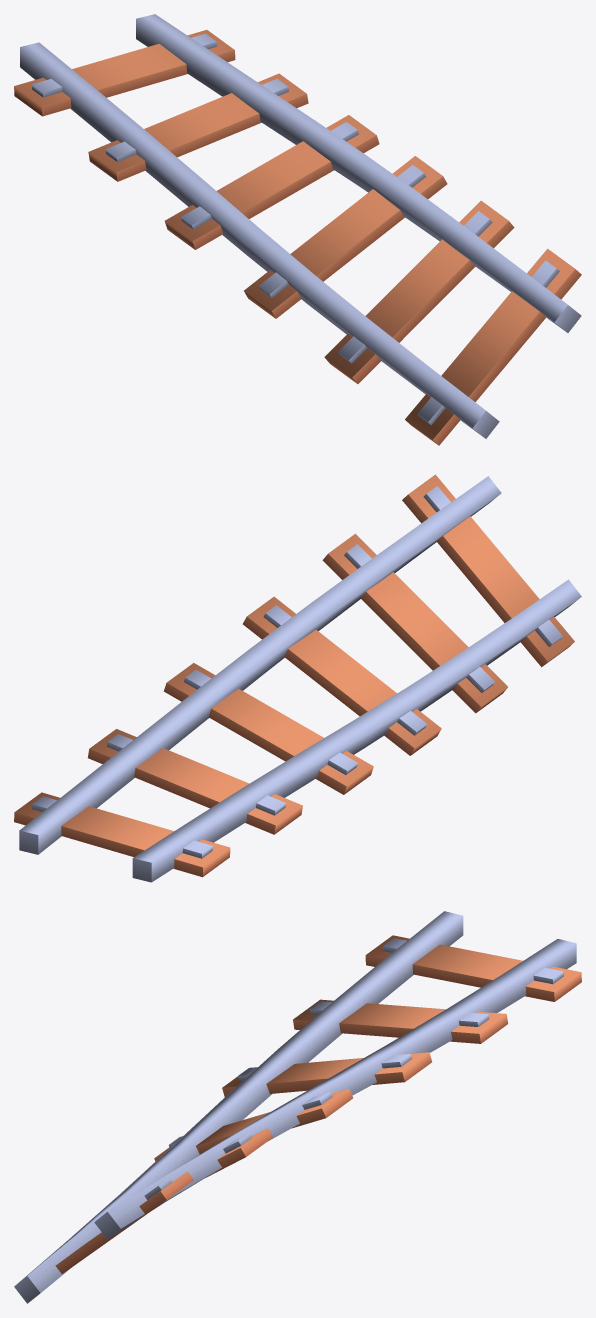
File: railroad-straight-skew-right.glb
3 renders of one model, top to bottom at view 1: azimuth 30°, elevation 25°; view 2: azimuth 150°, elevation 25°; view 3: azimuth 330°, elevation 25°, orthographic. The views are drawn at different scales.
Parts seen in each view (by area): view 1: railroad-straight-skew-right; view 2: railroad-straight-skew-right; view 3: railroad-straight-skew-right.
Boxes of the visible parts, x1=… form: railroad-straight-skew-right: x1=14, y1=14, x2=581, y2=445; railroad-straight-skew-right: x1=14, y1=474, x2=581, y2=882; railroad-straight-skew-right: x1=14, y1=911, x2=581, y2=1303.
Bounding box in the file's own units: 1 × 0.7105 × 4.
Materials: 1 (1 with a texture image).
